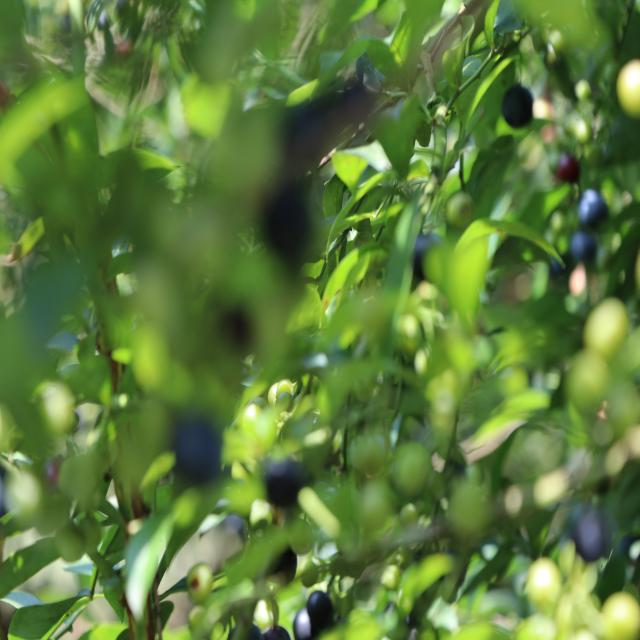blueberry: (569, 504, 607, 566), (576, 180, 614, 231), (503, 80, 539, 127), (305, 584, 338, 635), (566, 228, 596, 270), (290, 604, 320, 640)
blueberry-unripe: (616, 59, 640, 116)
